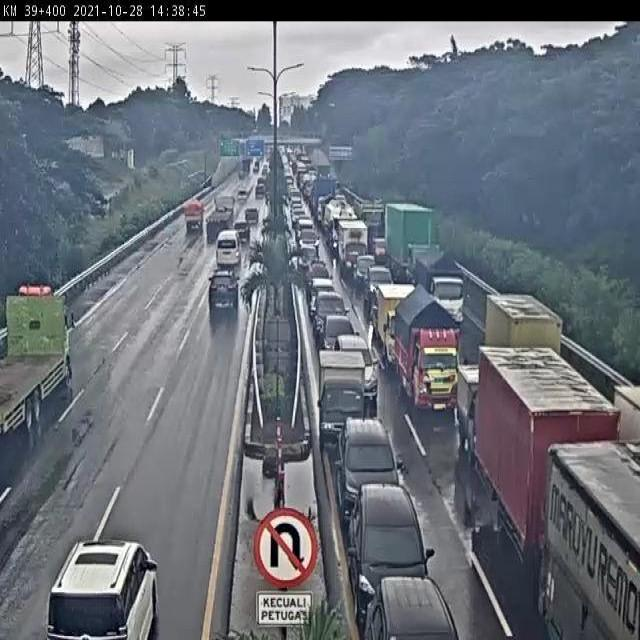big truck: (479, 345, 626, 595), (0, 282, 73, 438), (383, 203, 433, 281), (204, 196, 236, 244)
car: (45, 538, 159, 640), (349, 486, 436, 618), (335, 418, 399, 530), (363, 577, 460, 640), (335, 336, 380, 403), (319, 315, 360, 369), (312, 290, 350, 342), (208, 267, 242, 316), (367, 265, 395, 308), (309, 276, 334, 316), (355, 255, 376, 288), (230, 222, 250, 246), (244, 207, 260, 225)
small bus: (214, 230, 244, 270)
small truck: (393, 287, 462, 416), (484, 289, 563, 399), (458, 365, 521, 468), (317, 348, 369, 449), (413, 246, 462, 326), (377, 283, 420, 369), (339, 220, 369, 276), (184, 197, 206, 235)
